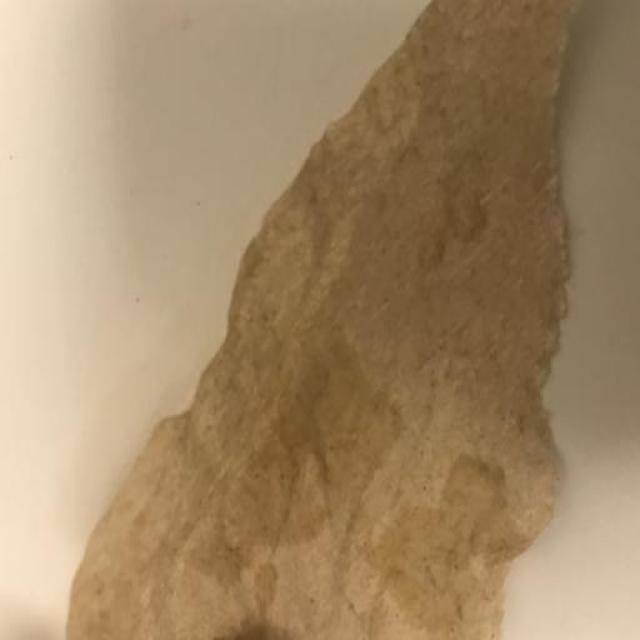Random Trash: (62, 0, 582, 640)
